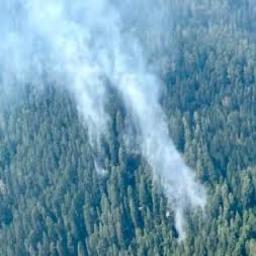Heavy smoke: (0, 0, 218, 239)
